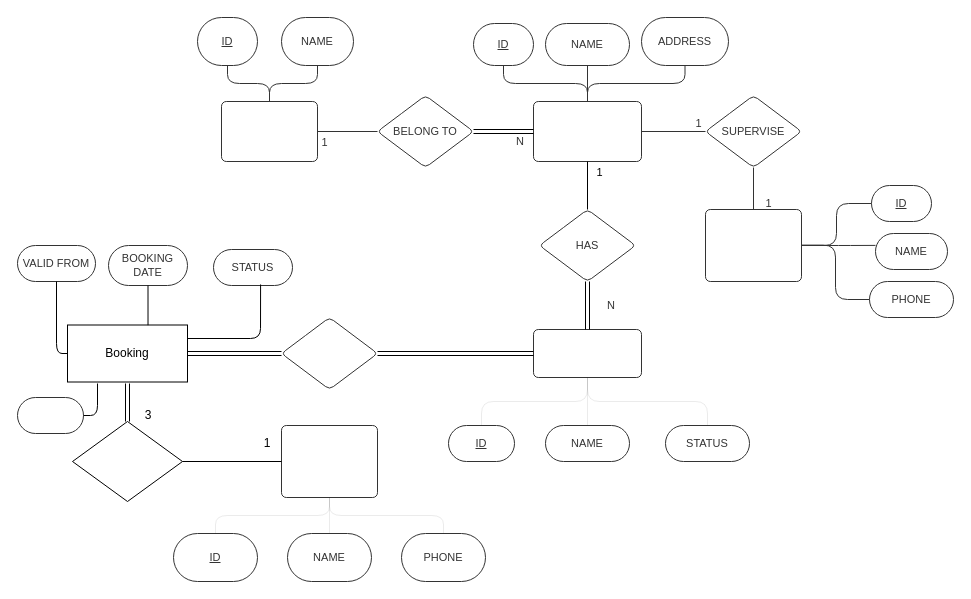
This 971x599 diagram has some shape labels left out. Each missing label, with the box of its shape:
BOOKED: (280, 316, 378, 390)
CITIES: (220, 100, 318, 162)
COURT: (532, 328, 642, 378)
CUSTOMER: (280, 424, 378, 498)
Make: (72, 420, 182, 502)
SPORT CENTRES: (532, 100, 642, 162)
STAFF: (704, 208, 802, 282)
VALID TO: (16, 396, 84, 434)
